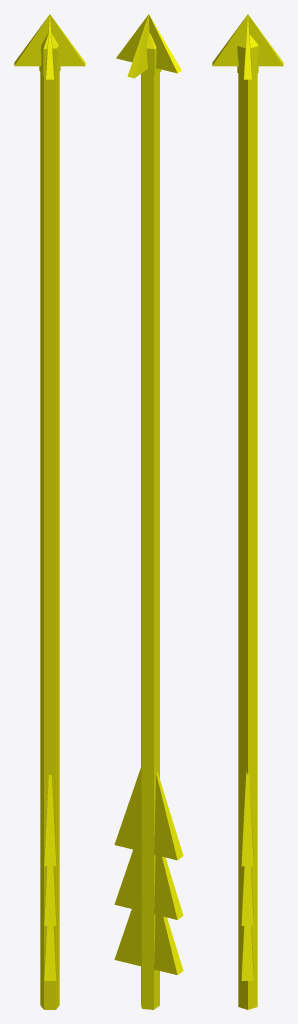
Rendered from _arrow_b_22.glb.
3 views of the same model, side by side, from view 1: azimuth 90°, elevation 25°; view 2: azimuth 150°, elevation 25°; view 3: azimuth 270°, elevation 25° (orthographic).
Visible parts, largest first — view 1: arrow_b_22; view 2: arrow_b_22; view 3: arrow_b_22.
Boxes of the visible parts, box(x1,y1,x2,y2) form: arrow_b_22: box(14, 14, 85, 1009); arrow_b_22: box(114, 14, 183, 1009); arrow_b_22: box(212, 14, 283, 1009).
Bounding box in the file's own units: 0.0379 × 0.569 × 0.0372.
1 material, 1 textured.
